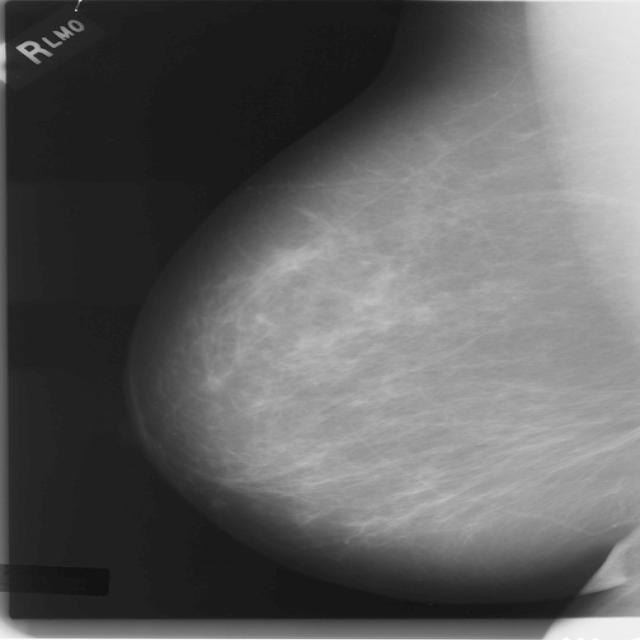tumour: (199, 370, 226, 392)
